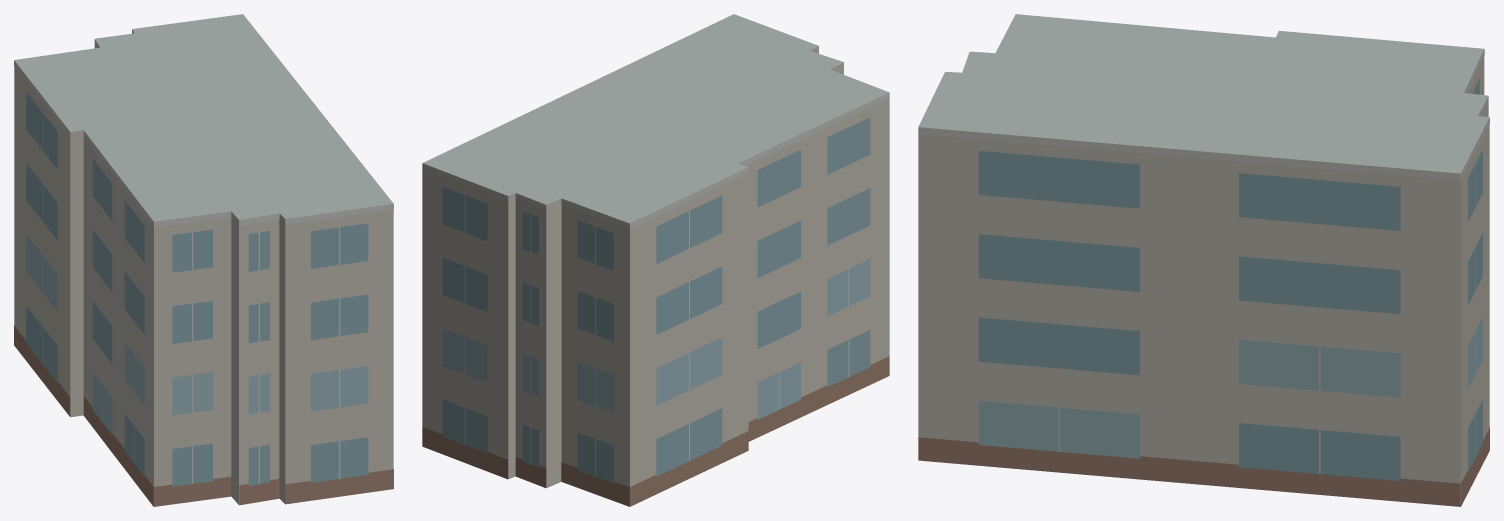
The model's file is survey-upis-32592939.glb.
The picture shows the model from 3 angles, left to right: view 1: azimuth 30°, elevation 25°; view 2: azimuth 150°, elevation 25°; view 3: azimuth 270°, elevation 25°; orthographic projection. The views are drawn at different scales.
Parts seen in each view (by area): view 1: survey-upis-32592939.tmp; view 2: survey-upis-32592939.tmp; view 3: survey-upis-32592939.tmp.
Part boxes in pixels (x1=…): survey-upis-32592939.tmp: x1=14, y1=14, x2=393, y2=506; survey-upis-32592939.tmp: x1=422, y1=14, x2=889, y2=506; survey-upis-32592939.tmp: x1=918, y1=14, x2=1489, y2=506.
Size of the model in its own units: 12.02 by 11.7 by 18.19.
